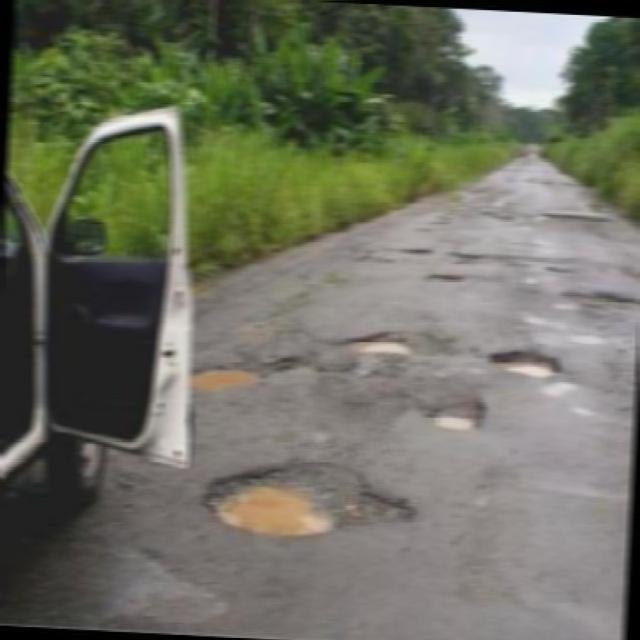Pothole: (179, 460, 426, 540), (187, 354, 302, 398), (413, 389, 503, 439), (480, 343, 570, 384), (448, 250, 584, 274), (552, 287, 640, 315), (331, 328, 412, 356), (540, 207, 622, 229), (467, 203, 512, 226), (416, 267, 467, 286), (394, 246, 435, 258)
